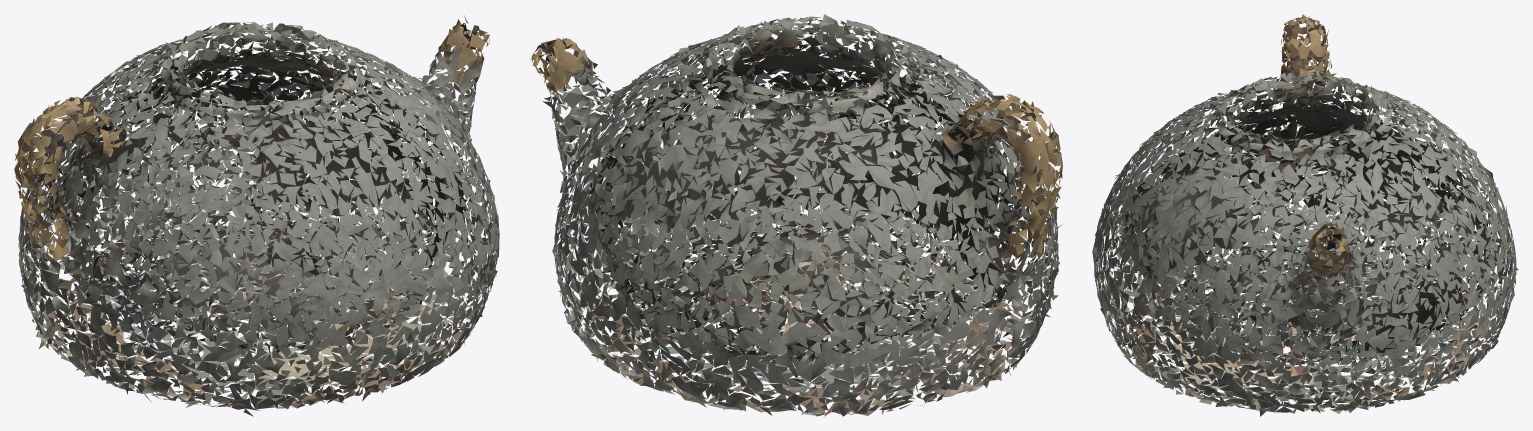
The model's file is ewer.glb.
The picture shows the model from 3 angles, left to right: view 1: azimuth 30°, elevation 25°; view 2: azimuth 150°, elevation 25°; view 3: azimuth 270°, elevation 25°; orthographic projection. The views are drawn at different scales.
Parts seen in each view (by area): view 1: Object_2, Object_3; view 2: Object_2, Object_3; view 3: Object_2, Object_3.
Boxes of the visible parts, x1=… form: Object_2: x1=14, y1=22, x2=499, y2=416; Object_3: x1=70, y1=15, x2=476, y2=333; Object_2: x1=529, y1=14, x2=1062, y2=416; Object_3: x1=538, y1=39, x2=1049, y2=383; Object_2: x1=1092, y1=14, x2=1518, y2=416; Object_3: x1=1094, y1=129, x2=1434, y2=339.
Size of the model in its own units: 0.0836 by 0.0454 by 0.0724.
Materials: 1 (1 with a texture image).
